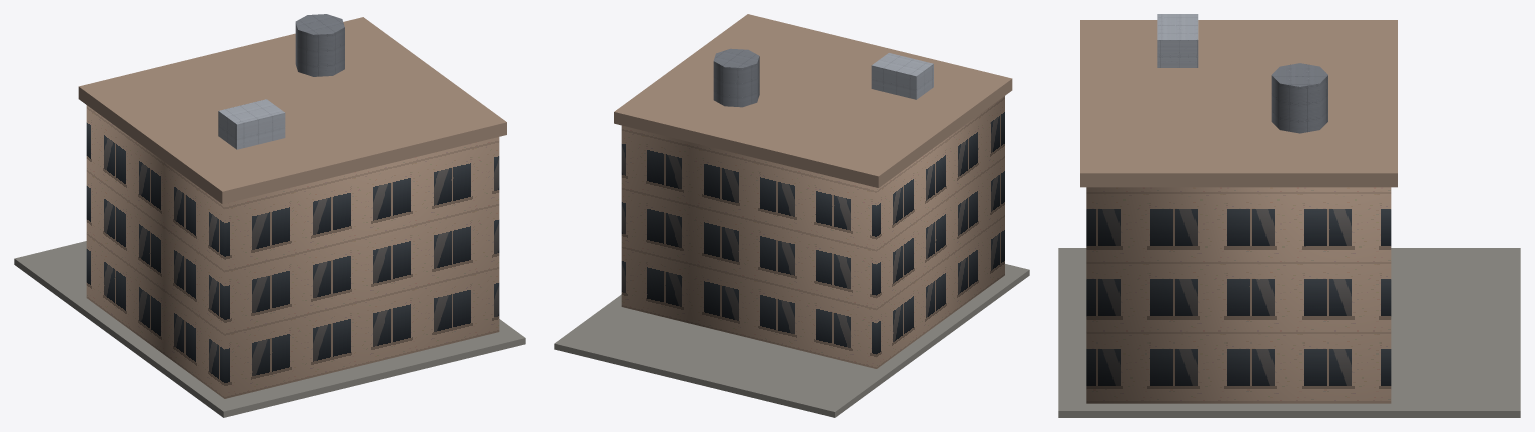
File: predio_bairro_toldo.glb
The picture shows the model from 3 angles, left to right: view 1: azimuth 30°, elevation 25°; view 2: azimuth 150°, elevation 25°; view 3: azimuth 270°, elevation 25°; orthographic projection. The views are drawn at different scales.
Parts seen in each view (by area): view 1: predio_bairro_toldo, predio_bairro_toldo_liso; view 2: predio_bairro_toldo, predio_bairro_toldo_liso; view 3: predio_bairro_toldo_liso, predio_bairro_toldo.
Boxes of the visible parts, bbox=[...] form: predio_bairro_toldo: bbox=[86, 14, 499, 398]; predio_bairro_toldo_liso: bbox=[14, 17, 525, 417]; predio_bairro_toldo: bbox=[621, 48, 1004, 368]; predio_bairro_toldo_liso: bbox=[554, 14, 1029, 417]; predio_bairro_toldo_liso: bbox=[1058, 20, 1520, 417]; predio_bairro_toldo: bbox=[1086, 14, 1391, 403].
Bounding box in the file's own units: 15 × 12.5 × 18.
3 materials, 2 textured.
